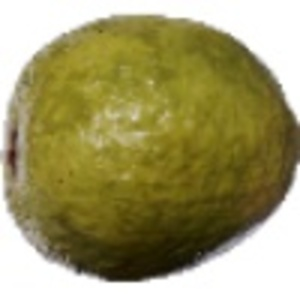goiaba: (6, 8, 297, 286)
